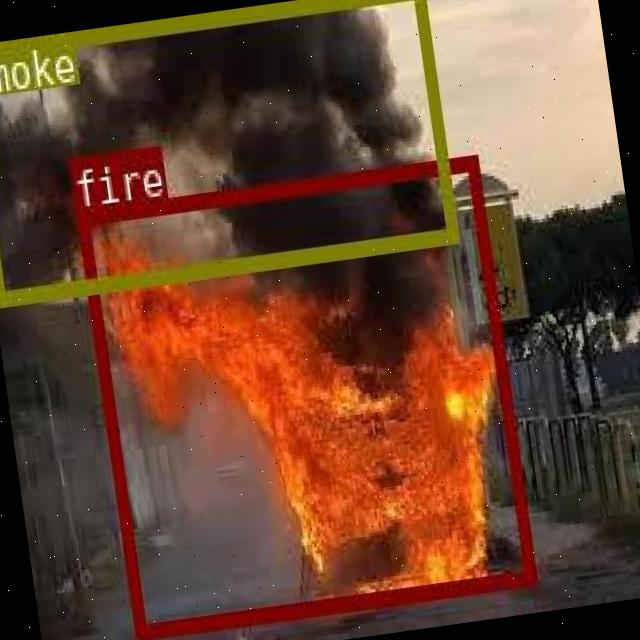fire: (76, 155, 536, 639)
smoke: (0, 0, 454, 302)
